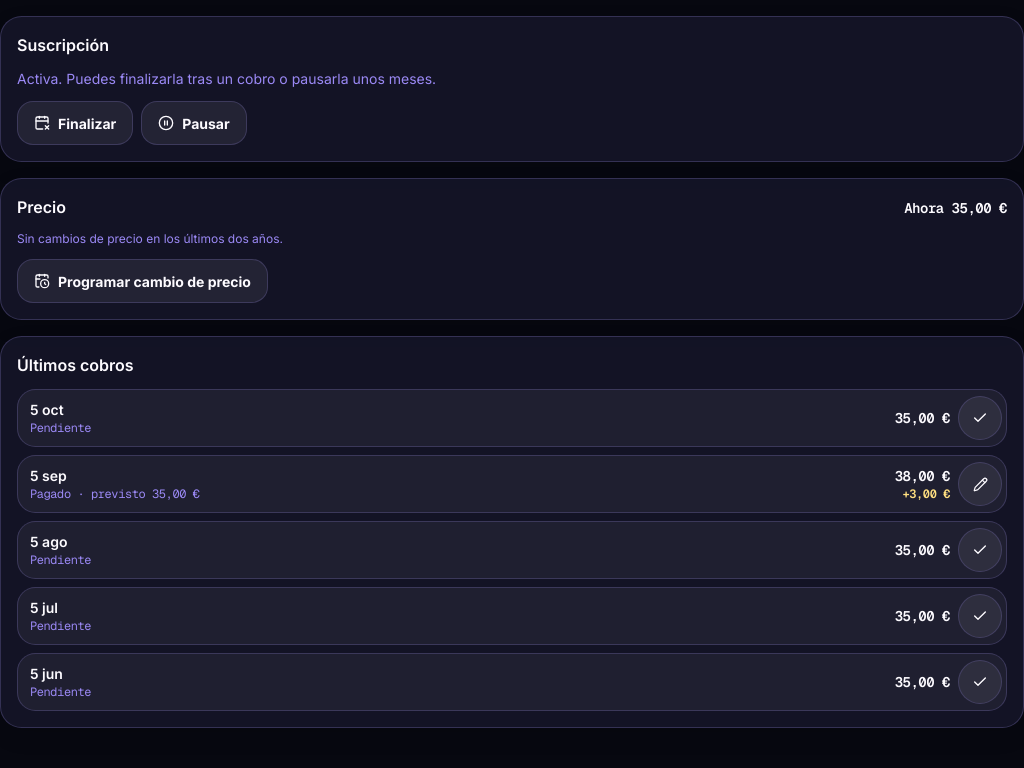
Test: SeriesDetailSections › finishes after a chosen charge and reactivates
The image size is (1024, 768).
Click the button "Finalizar".
click(75, 123)  # box [17, 101, 133, 145]
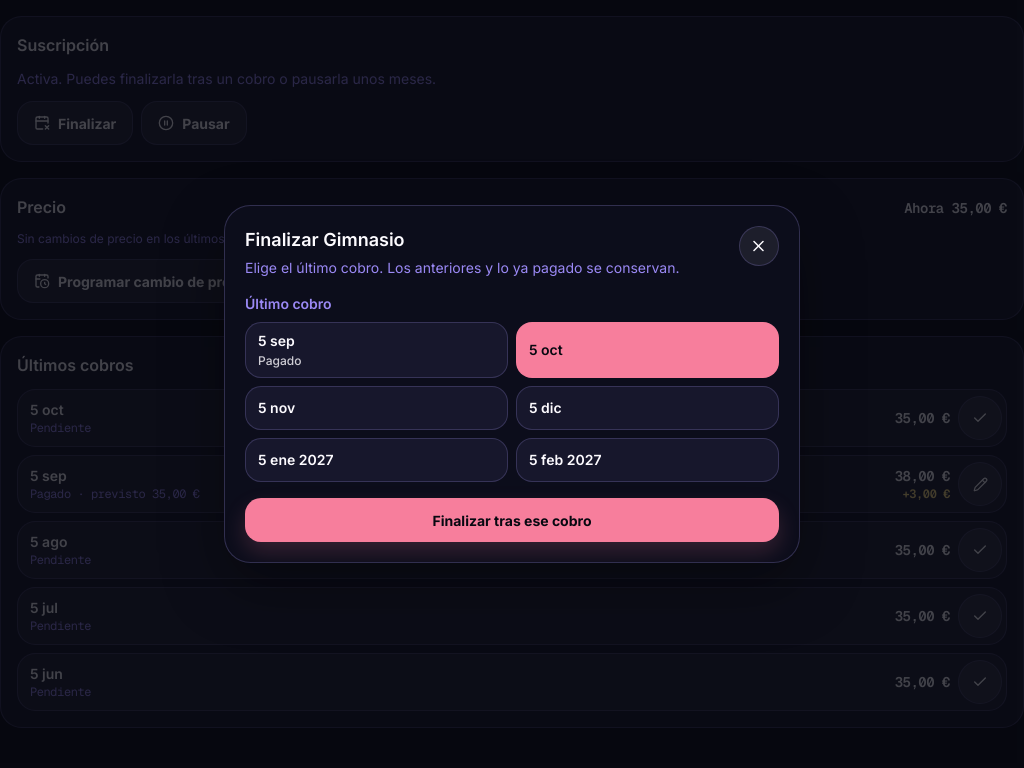
Result: the radio button labelled "5 sep Pagado" is shown at [245, 322, 508, 378]
Click the radio button labelled "5 dic".
click(545, 408)  # box [516, 386, 779, 430]
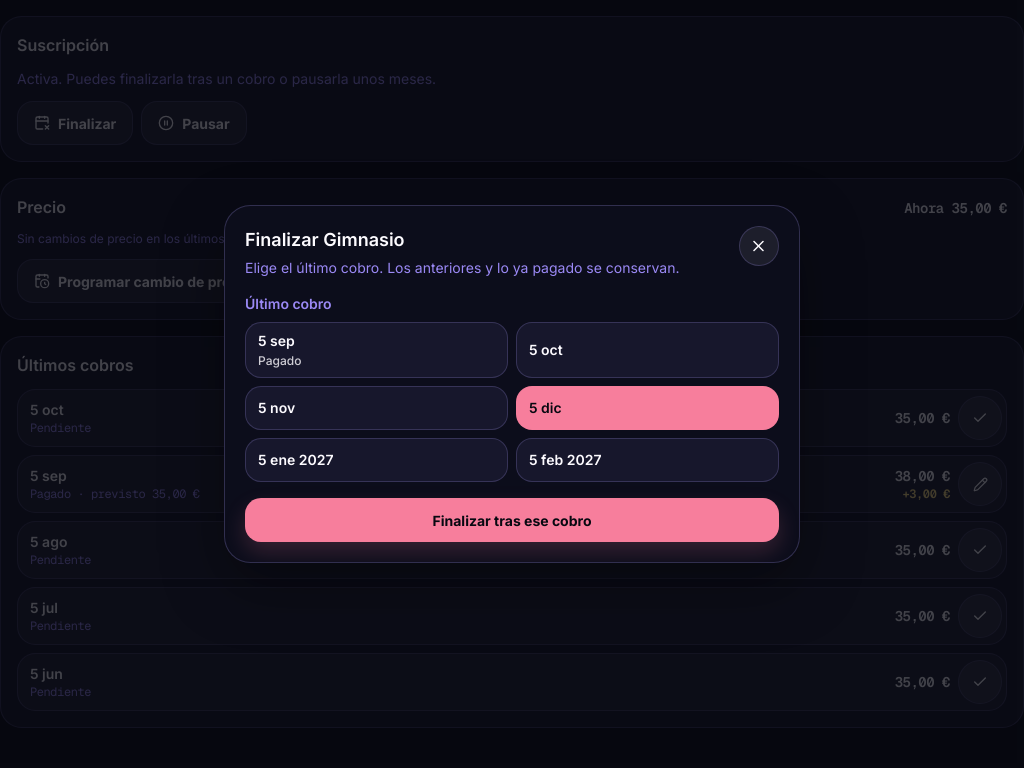
Click the button "Finalizar tras ese cobro".
click(512, 520)  # box [245, 498, 779, 542]
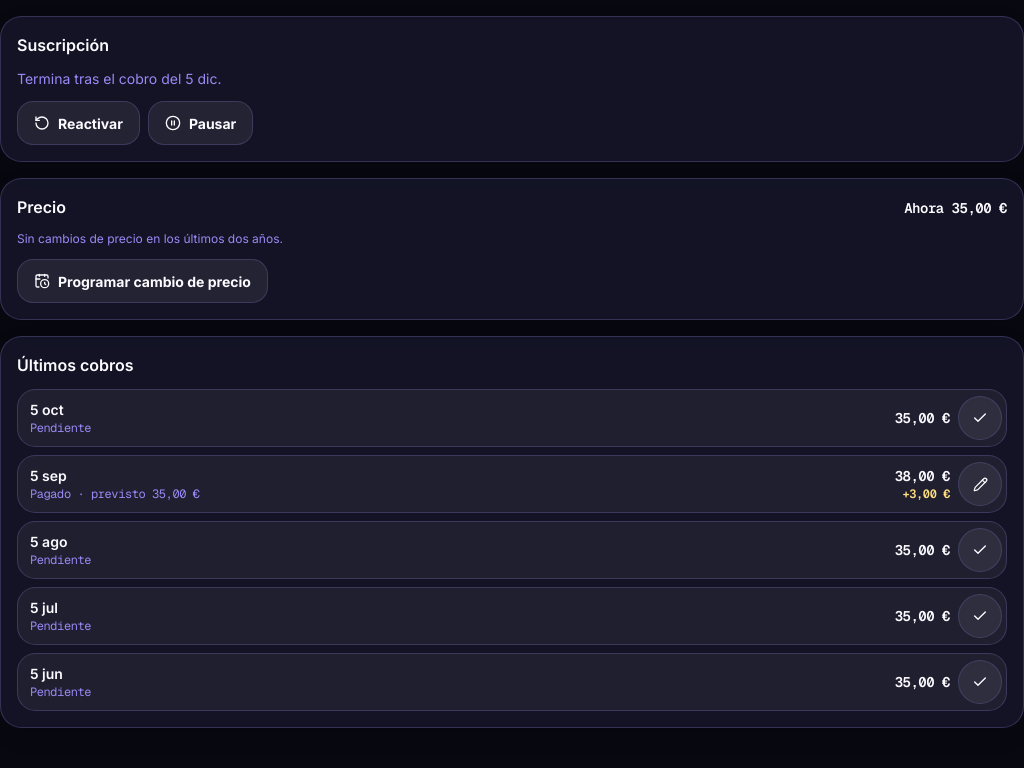
Result: the element "Suscripción" shows "Termina tras el cobro del 5 dic." at [17, 70, 222, 87]
Click the button "Reactivar".
click(78, 123)  # box [17, 101, 140, 145]
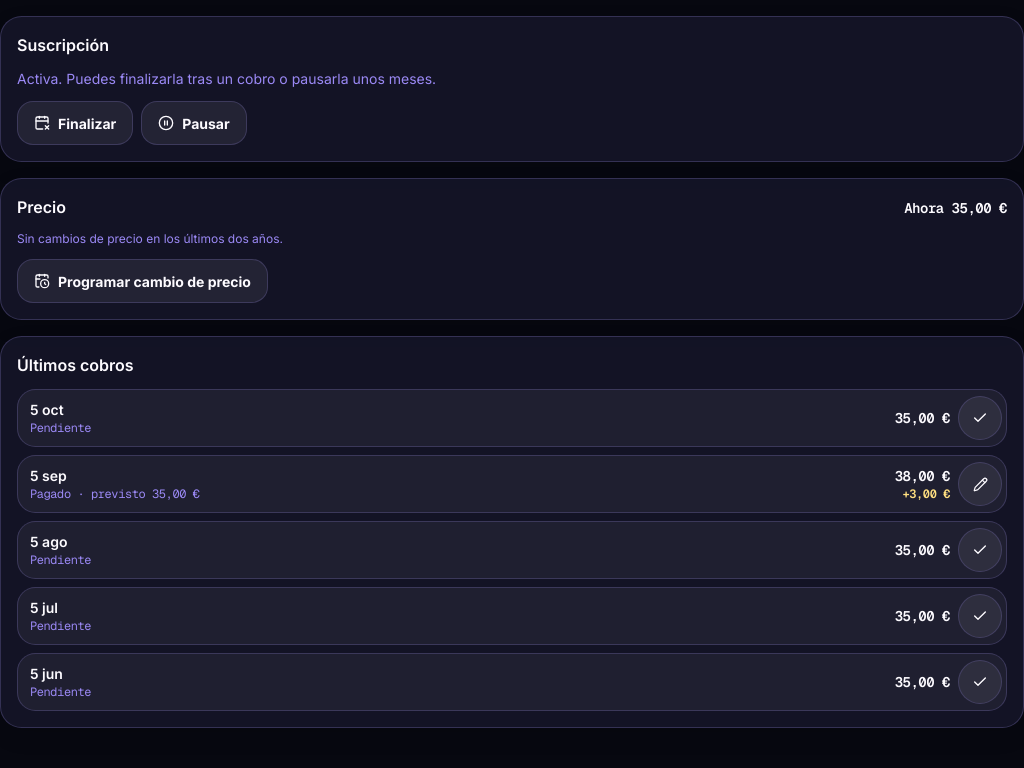
Result: the button "Finalizar" is shown at [17, 101, 133, 145]
